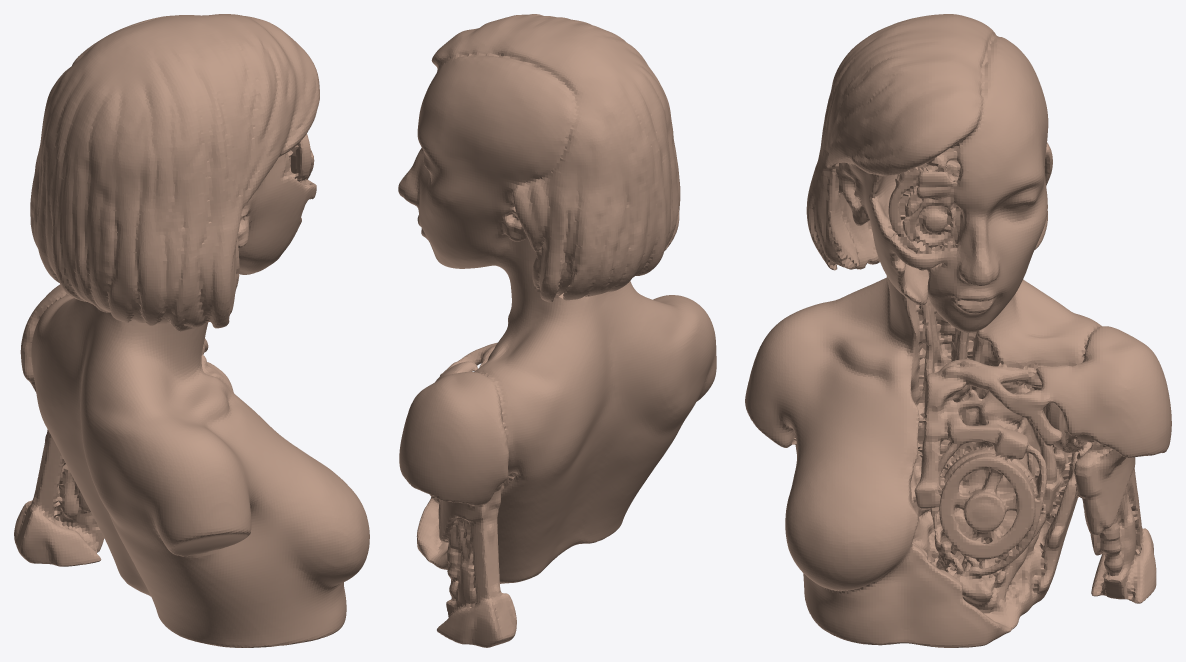
The model's file is Bust.glb.
3 renders of one model, left to right at view 1: azimuth 30°, elevation 25°; view 2: azimuth 150°, elevation 25°; view 3: azimuth 270°, elevation 25°, orthographic. The views are drawn at different scales.
Visible parts, largest first — view 1: bust1; view 2: bust1; view 3: bust1.
Part boxes in pixels (<box>): bust1: <box>14,14,369,647</box>; bust1: <box>398,14,716,647</box>; bust1: <box>745,14,1171,647</box>.
Size of the model in its own units: 4.76 by 9.98 by 6.86.
1 material, 1 textured.
